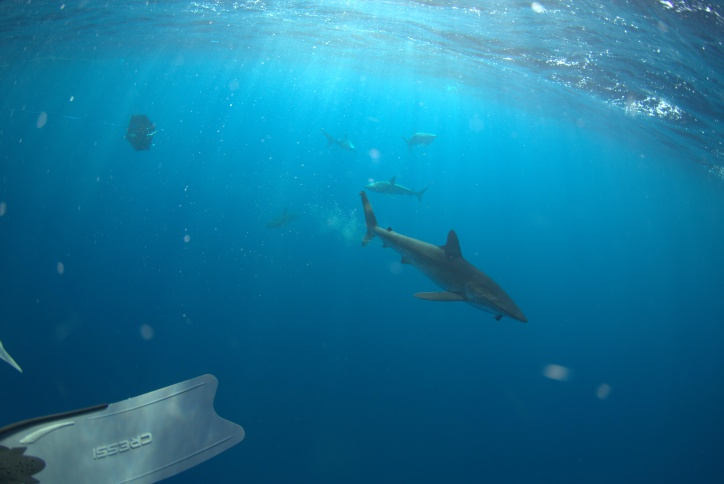Sedoso: (344, 188, 536, 328)
